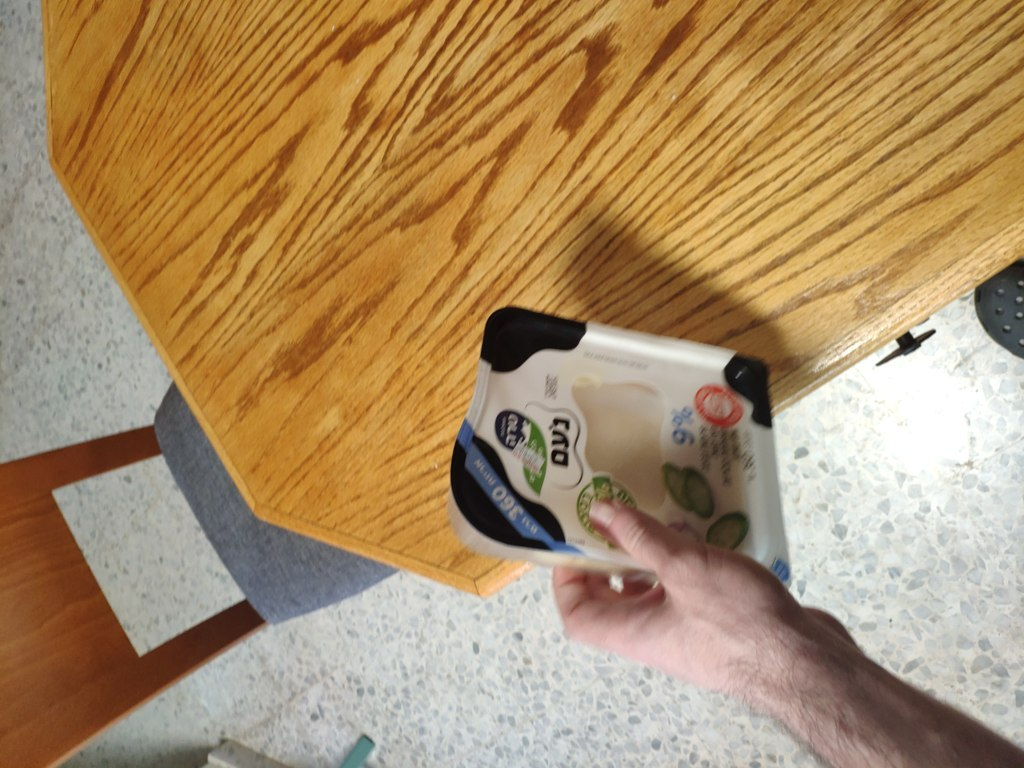Cheese: (428, 332, 828, 572)
